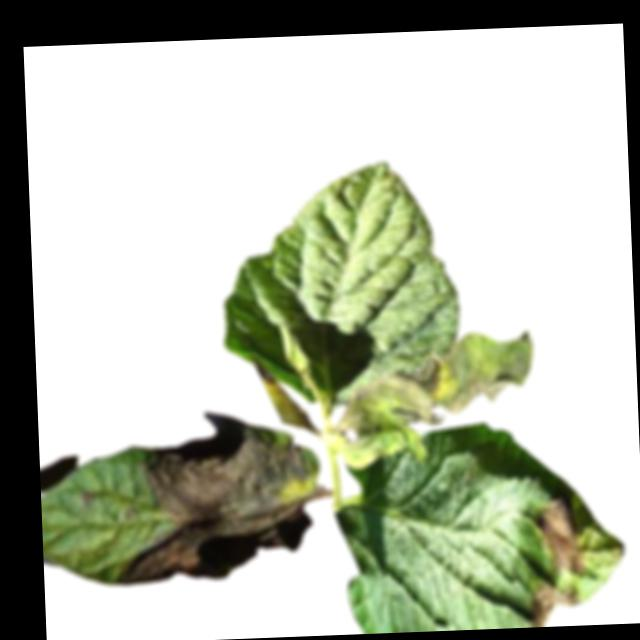Late_blight: (110, 407, 318, 584), (333, 330, 542, 470), (538, 493, 590, 578), (526, 578, 578, 627), (79, 485, 97, 505)
